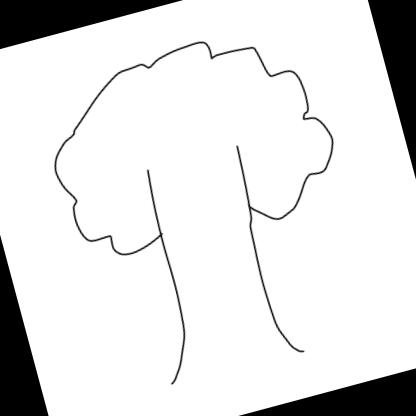crown_cloud: (32, 13, 350, 272)
trunk_straight: (157, 222, 280, 345)
